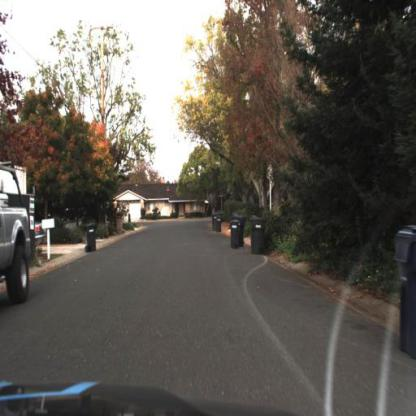car: (1, 157, 32, 307)
